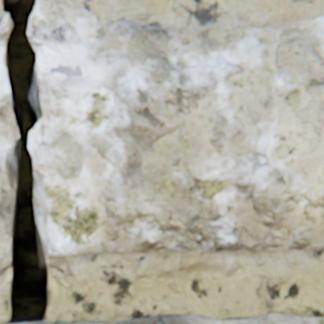brick: (16, 314, 323, 323)
broken_brick: (27, 0, 323, 256), (0, 13, 17, 275)
crack: (0, 0, 49, 323)
